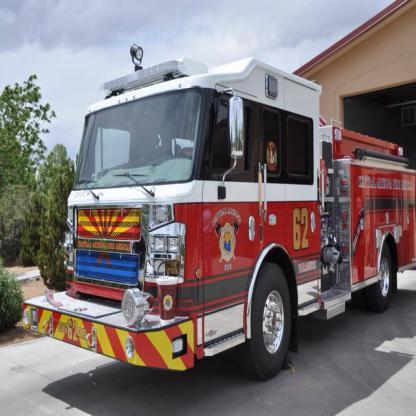fire-truck: (25, 36, 416, 400)
